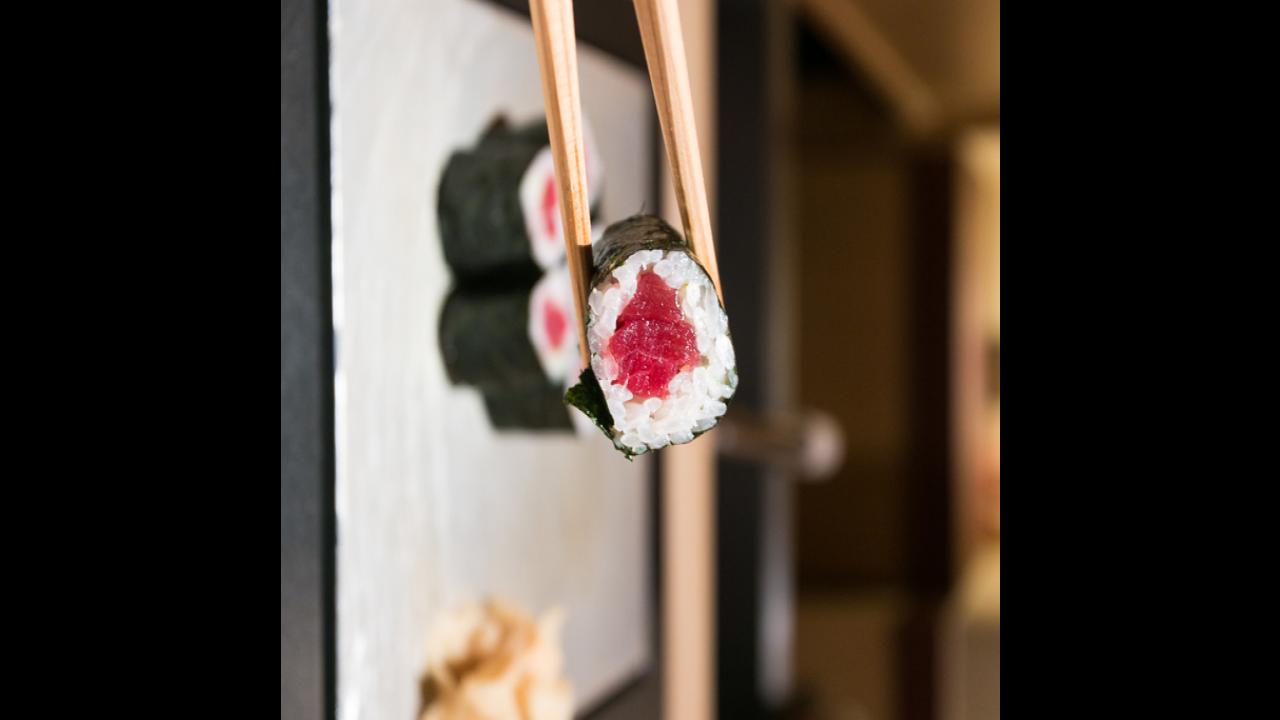chopstick: (489, 0, 731, 370)
